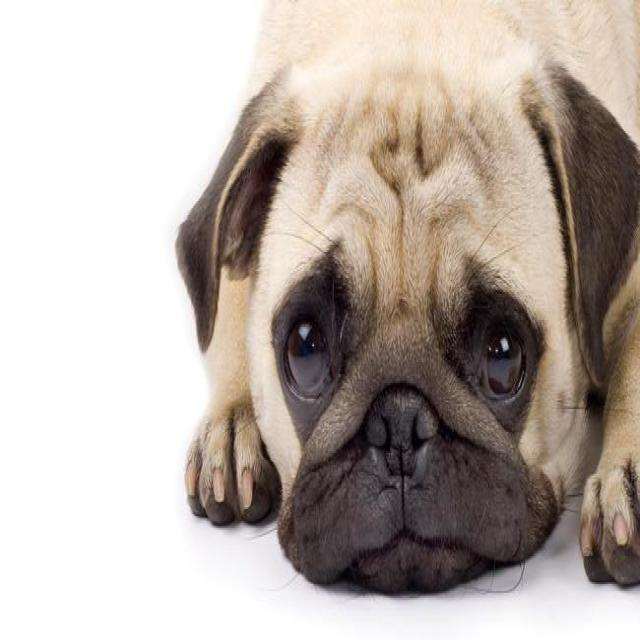eye: (474, 312, 529, 410), (282, 309, 334, 405)
